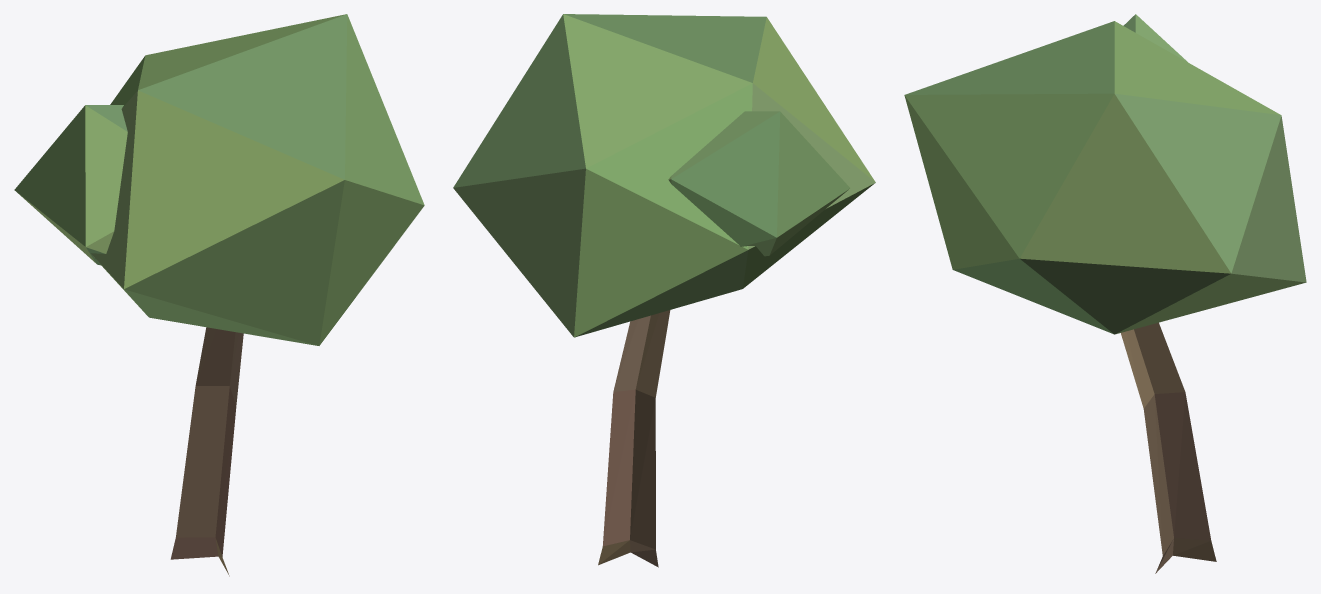
File: Tree_Broadleaf_05_Far.glb
3 views of the same model, side by side, from view 1: azimuth 30°, elevation 25°; view 2: azimuth 150°, elevation 25°; view 3: azimuth 270°, elevation 25° (orthographic). The views are drawn at different scales.
Parts seen in each view (by area): view 1: Tree_Broadleaf_05_Far; view 2: Tree_Broadleaf_05_Far; view 3: Tree_Broadleaf_05_Far.
Boxes of the visible parts, x1,y1,x2,y2 form: Tree_Broadleaf_05_Far: (14, 14, 424, 576); Tree_Broadleaf_05_Far: (453, 14, 875, 567); Tree_Broadleaf_05_Far: (904, 14, 1306, 573).
Size of the model in its own units: 5.34 by 8.12 by 5.64.
